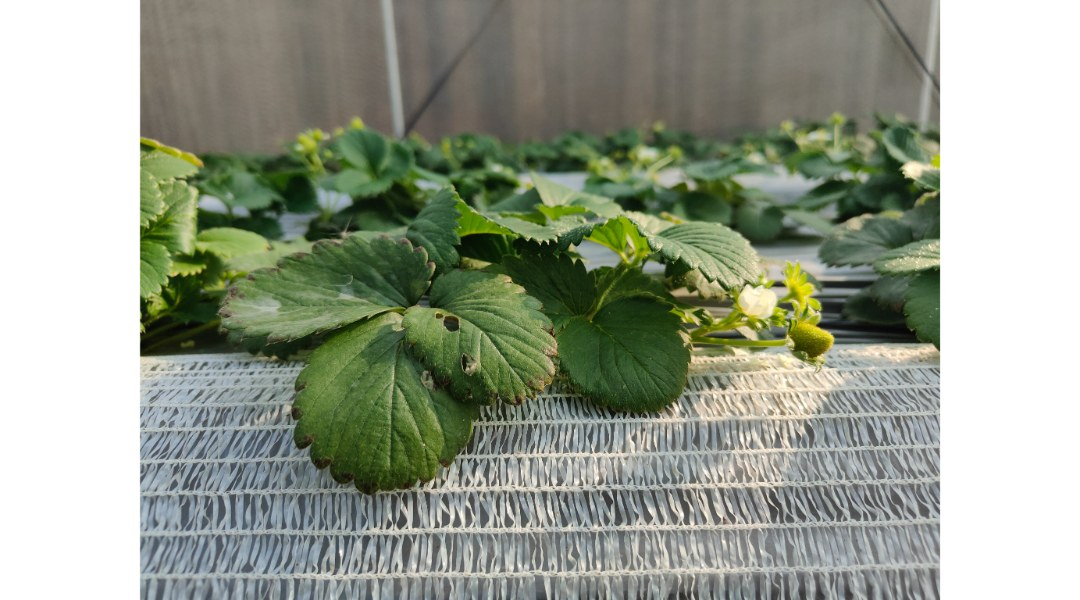berry: (782, 310, 838, 373), (703, 332, 784, 355)
flower: (739, 273, 782, 330)
